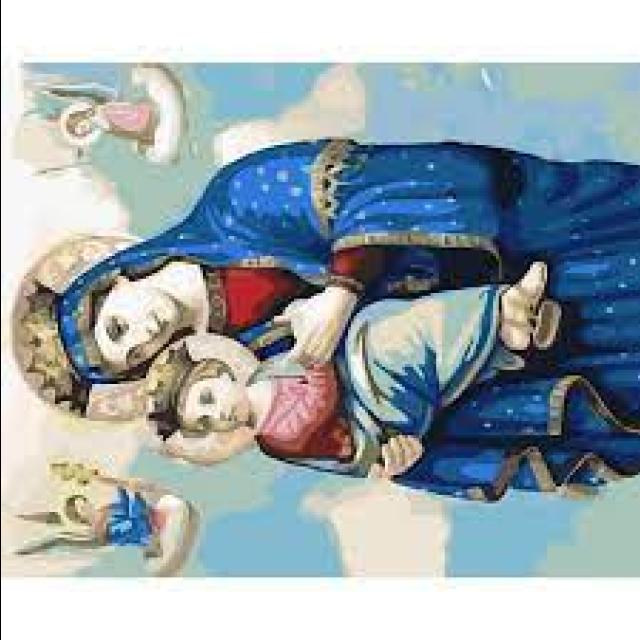mother of god: (25, 127, 640, 506)
